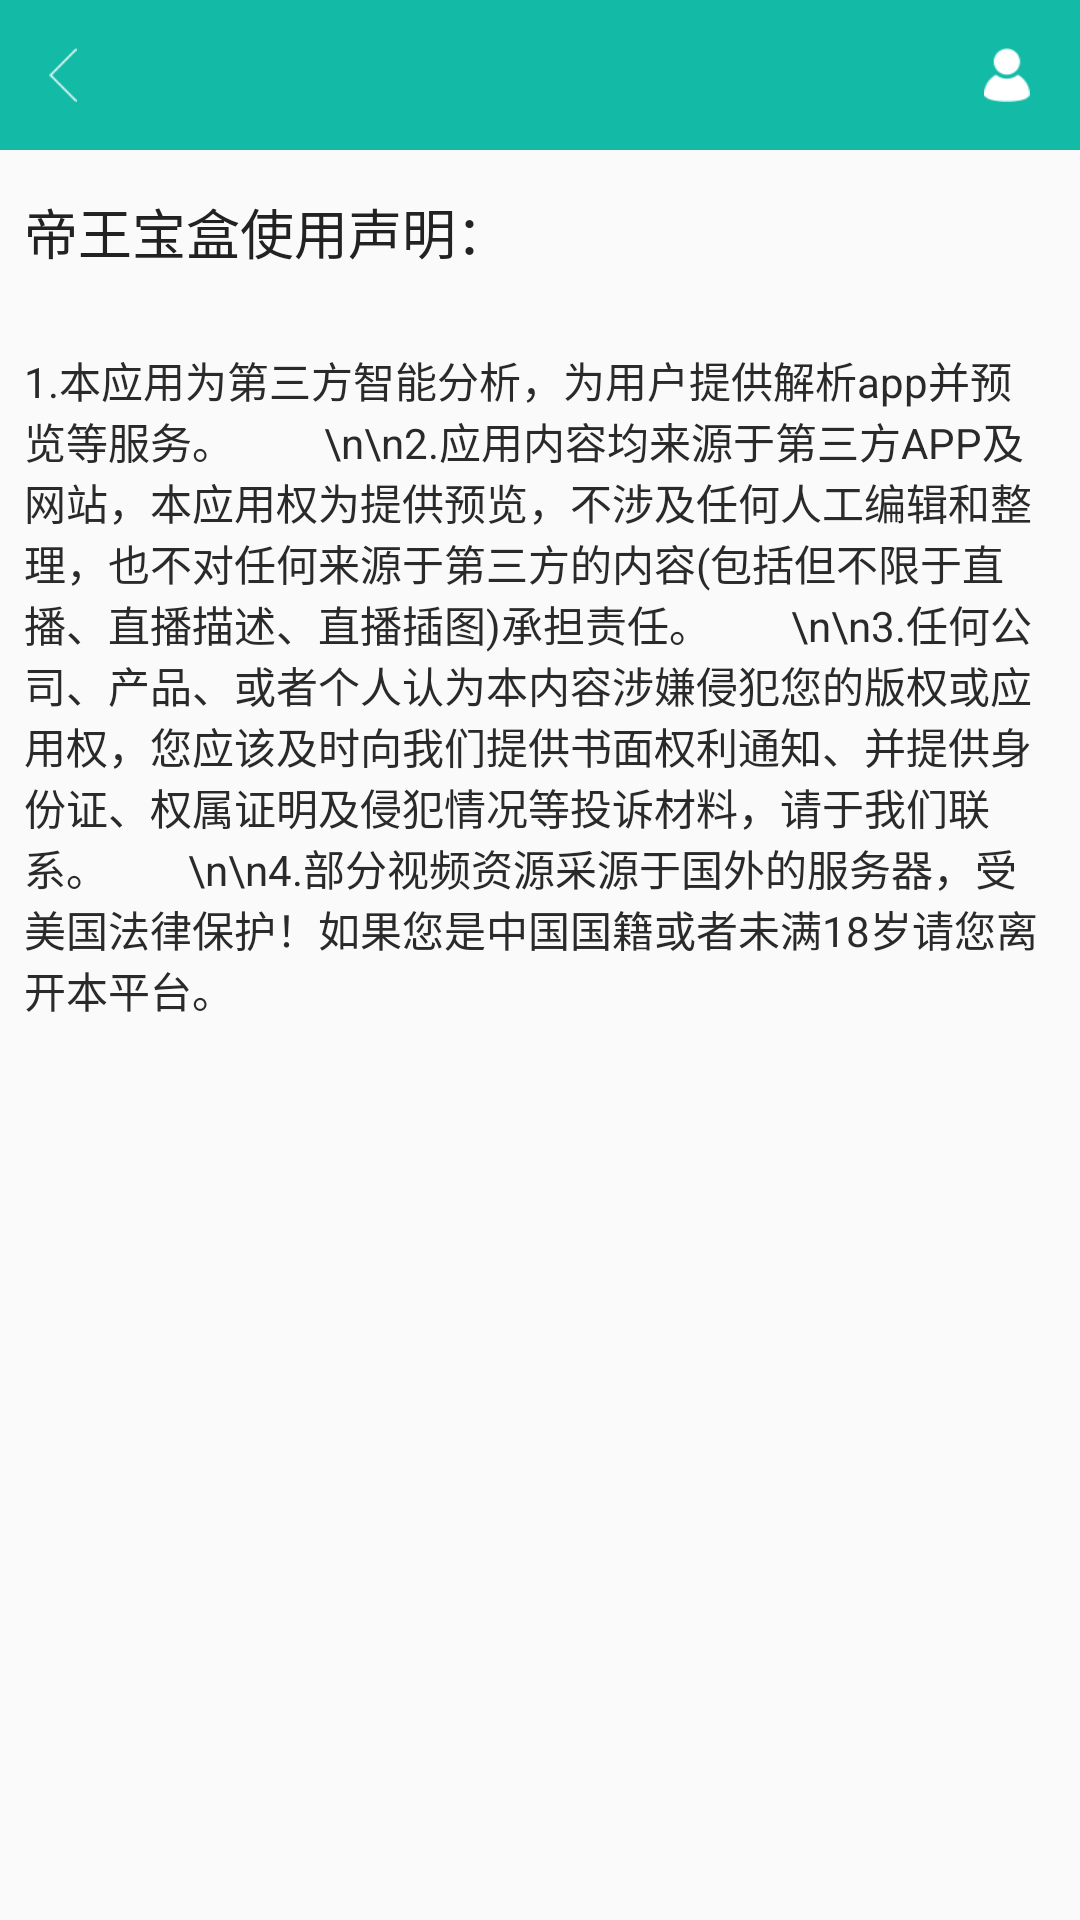

Where to tap for icons on this 1080px×1920px app screen, as (x=x, y=y):
back: (x=63, y=75)
user: (x=1007, y=75)
